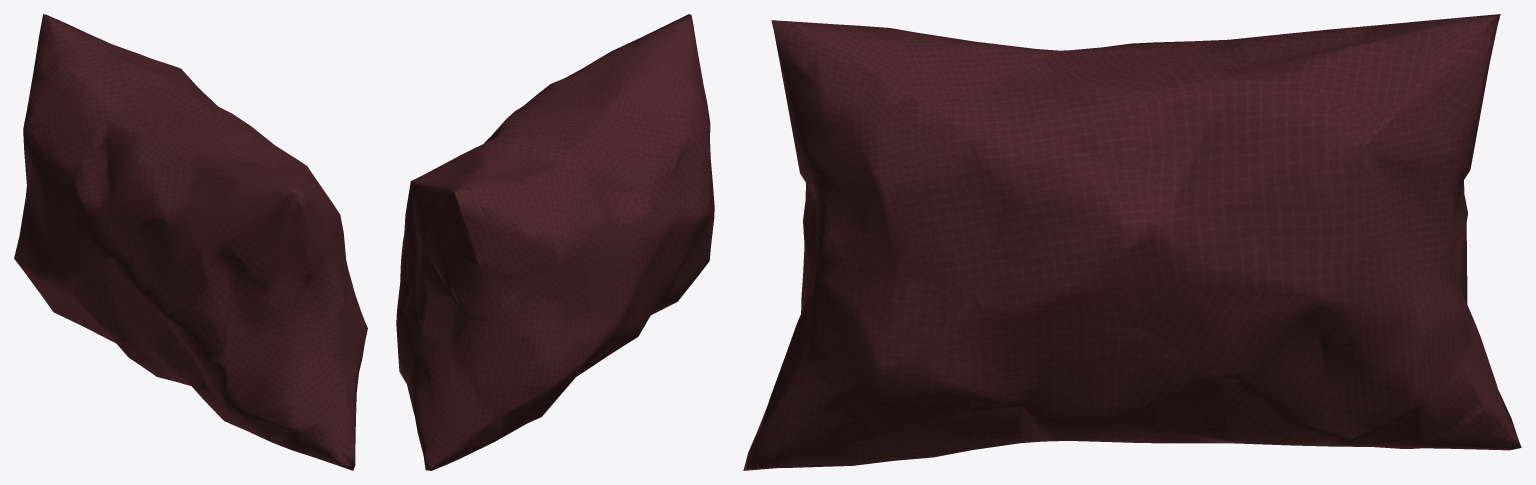
Rendered from throw_pillow_burgundy.glb.
3 renders of one model, left to right at view 1: azimuth 30°, elevation 25°; view 2: azimuth 150°, elevation 25°; view 3: azimuth 270°, elevation 25°, orthographic. The views are drawn at different scales.
Visible parts, largest first — view 1: tripo_node_fe283f49-ae80-41bf-ba38-cfc62167a2bc; view 2: tripo_node_fe283f49-ae80-41bf-ba38-cfc62167a2bc; view 3: tripo_node_fe283f49-ae80-41bf-ba38-cfc62167a2bc.
Part boxes in pixels (x1=…): tripo_node_fe283f49-ae80-41bf-ba38-cfc62167a2bc: x1=14, y1=14, x2=367, y2=470; tripo_node_fe283f49-ae80-41bf-ba38-cfc62167a2bc: x1=396, y1=14, x2=714, y2=470; tripo_node_fe283f49-ae80-41bf-ba38-cfc62167a2bc: x1=743, y1=14, x2=1521, y2=470.
Bounding box in the file's own units: 0.4319 × 0.5965 × 1.
Materials: 1 (1 with a texture image).
